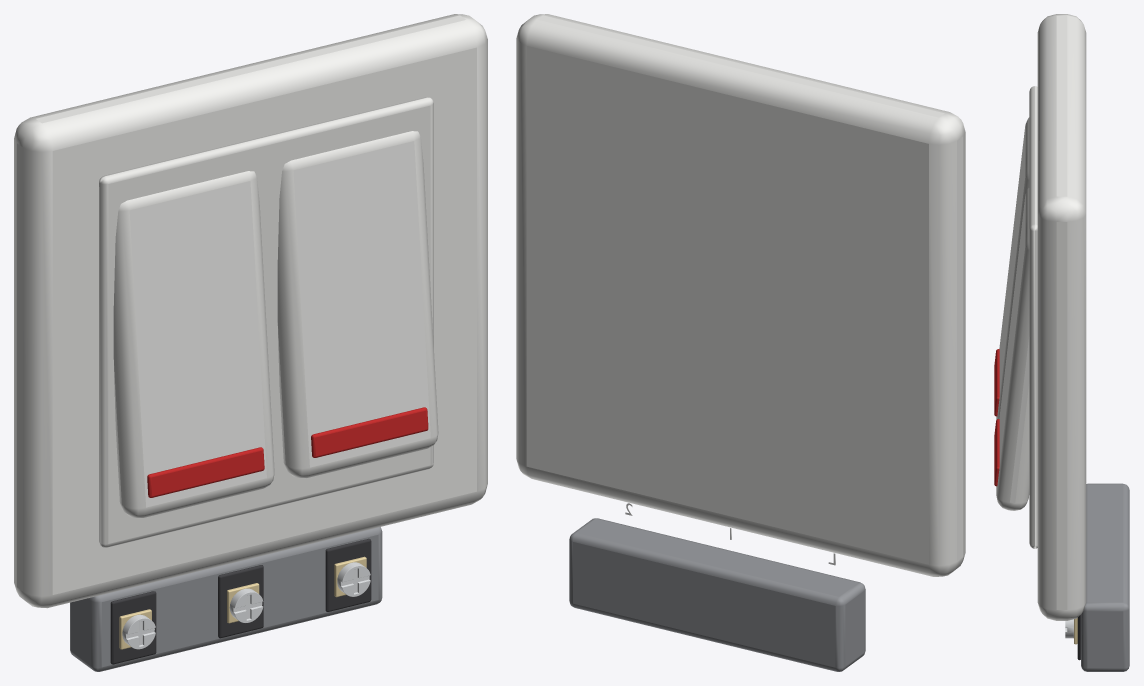
The model's file is swd_11.glb.
The picture shows the model from 3 angles, left to right: view 1: azimuth 30°, elevation 25°; view 2: azimuth 150°, elevation 25°; view 3: azimuth 270°, elevation 25°; orthographic projection. The views are drawn at different scales.
Parts seen in each view (by area): view 1: body, mech; view 2: body, mech; view 3: body, mech.
Boxes of the visible parts, x1=… form: body: x1=14, y1=14, x2=487, y2=608; mech: x1=70, y1=527, x2=382, y2=671; body: x1=516, y1=14, x2=965, y2=576; mech: x1=569, y1=503, x2=865, y2=671; body: x1=994, y1=14, x2=1086, y2=620; mech: x1=1065, y1=483, x2=1129, y2=671.
Bounding box in the file's own units: 0.086 × 0.103 × 0.025.
